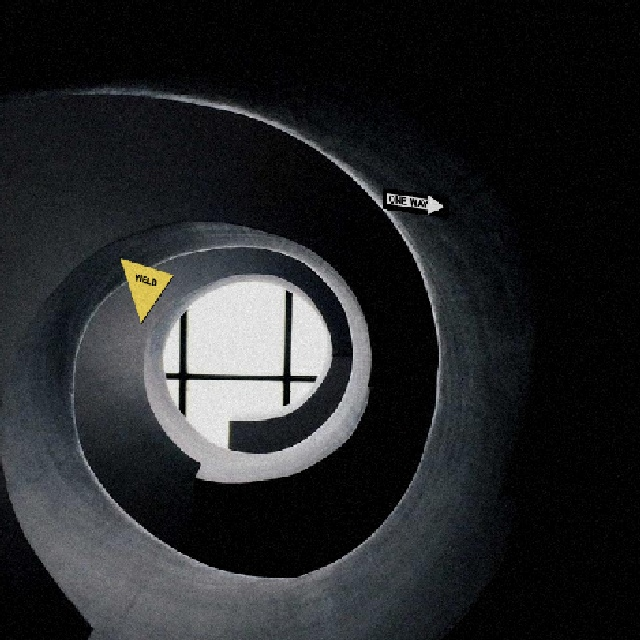ONE_WAY_ right: (381, 186, 448, 217)
YIELD: (118, 256, 173, 323)
